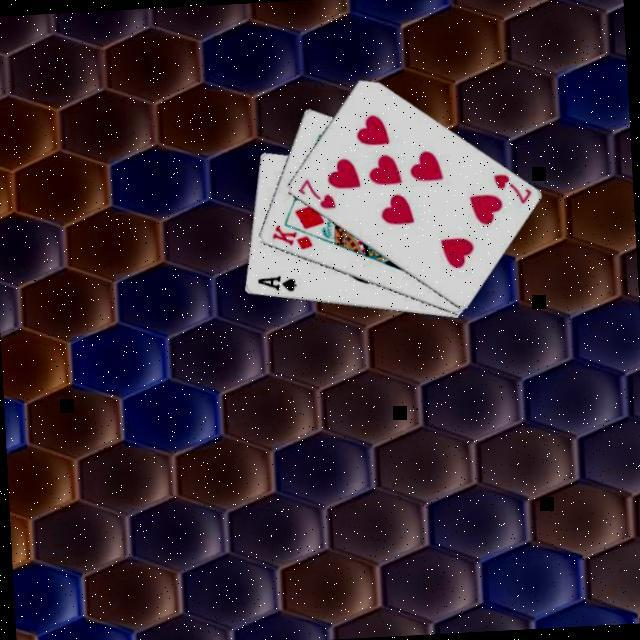7H: (492, 171, 538, 211), (297, 176, 341, 216)
AS: (255, 273, 301, 298)
KD: (270, 223, 318, 257)
